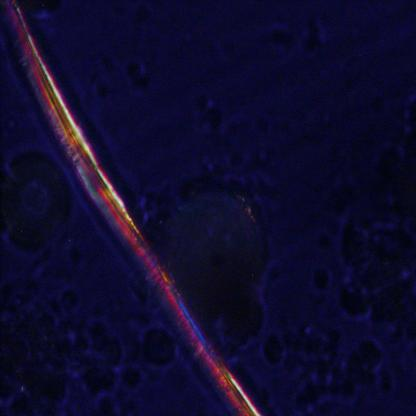Diatom: (169, 173, 279, 301), (1, 150, 79, 254)
Microfibre: (1, 7, 268, 414)
